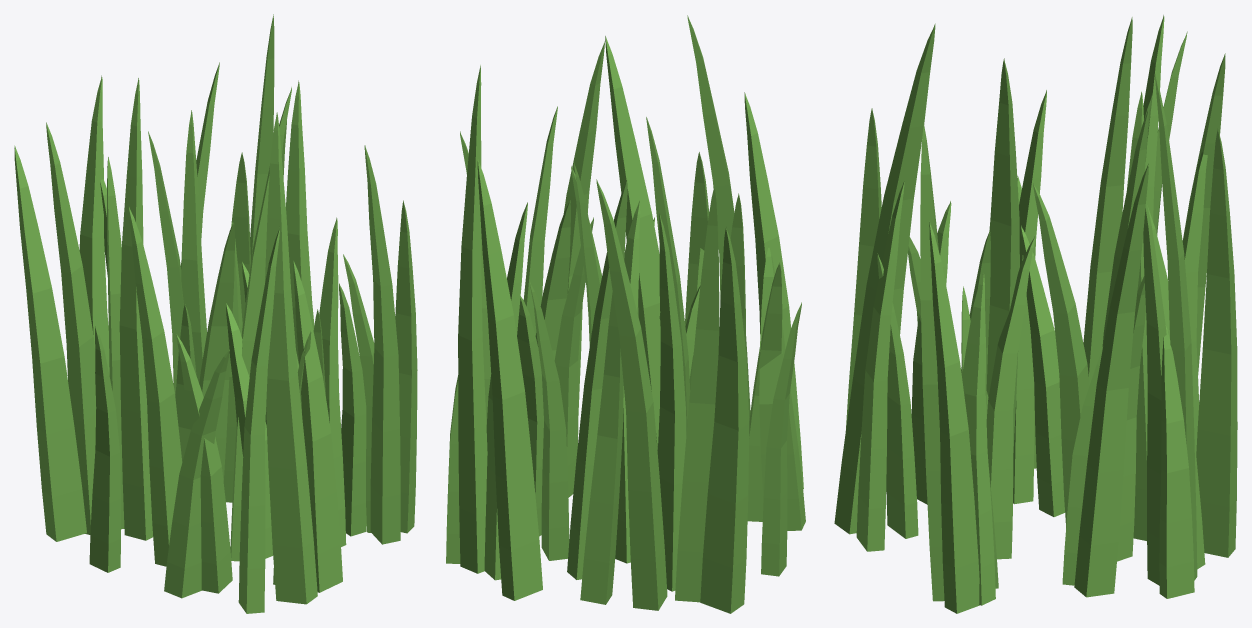
File: High grass 1.fbx
3 renders of one model, left to right at view 1: azimuth 30°, elevation 25°; view 2: azimuth 150°, elevation 25°; view 3: azimuth 270°, elevation 25°, orthographic. The views are drawn at different scales.
Parts seen in each view (by area): view 1: High grass 1; view 2: High grass 1; view 3: High grass 1.
Part boxes in pixels (x1,y1,x2,y2): High grass 1: [14, 14, 417, 613]; High grass 1: [446, 15, 805, 613]; High grass 1: [834, 15, 1237, 613].
Bounding box in the file's own units: 1.63 × 2.4 × 1.7.
